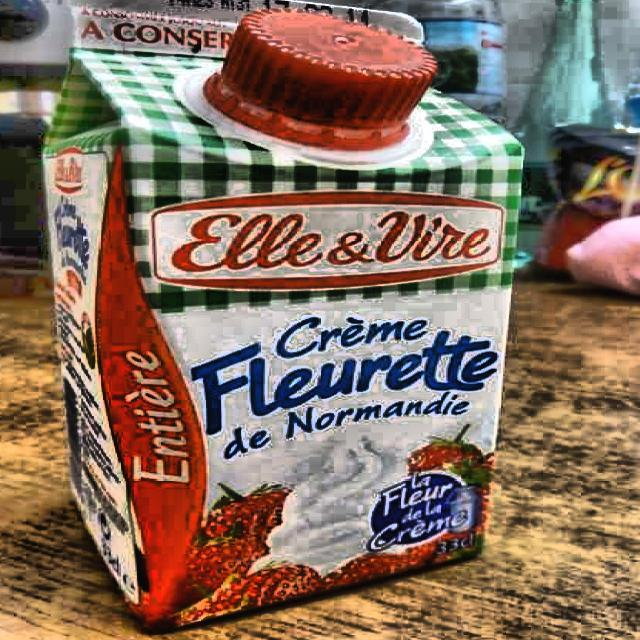cardboard: (40, 0, 526, 633)
